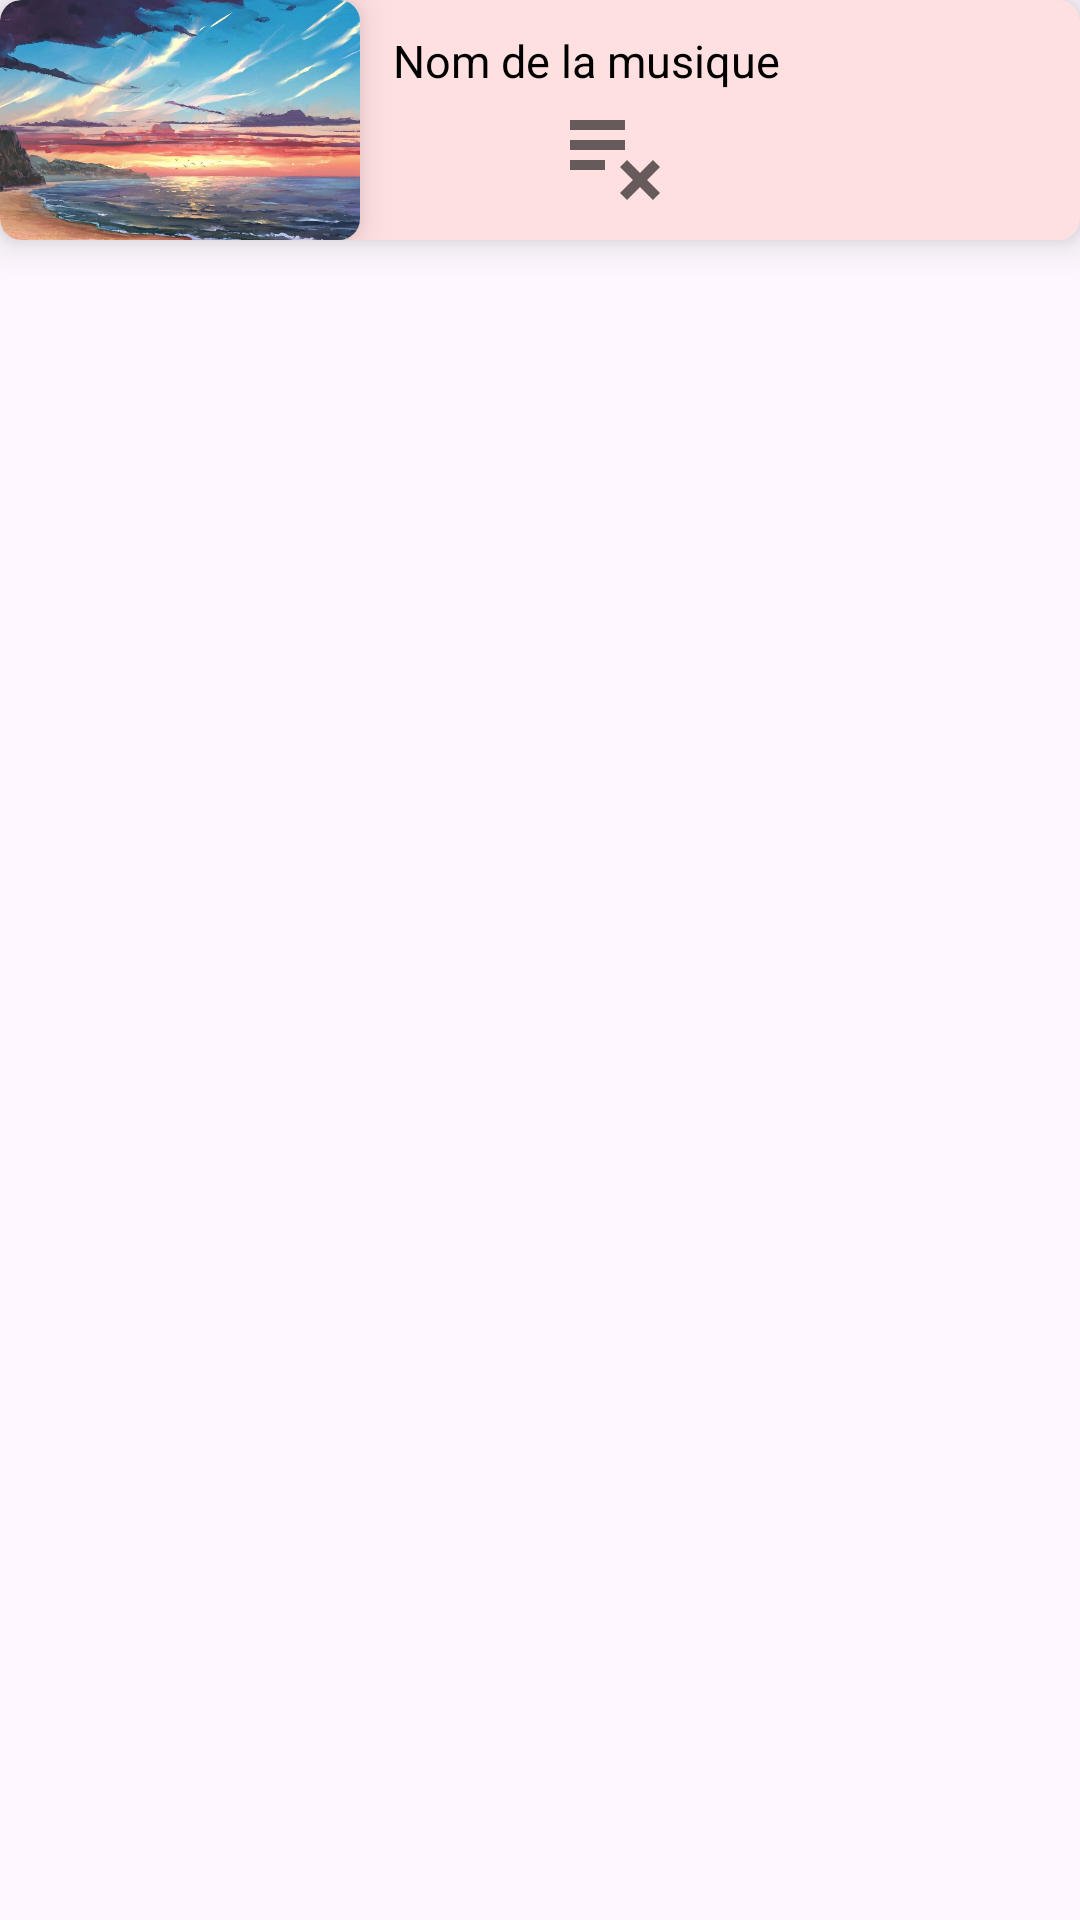

Screen size 1080*1920. Icon name, then its center in pixels as (x=x, y=y):
playlist remove: (x=615, y=160)
